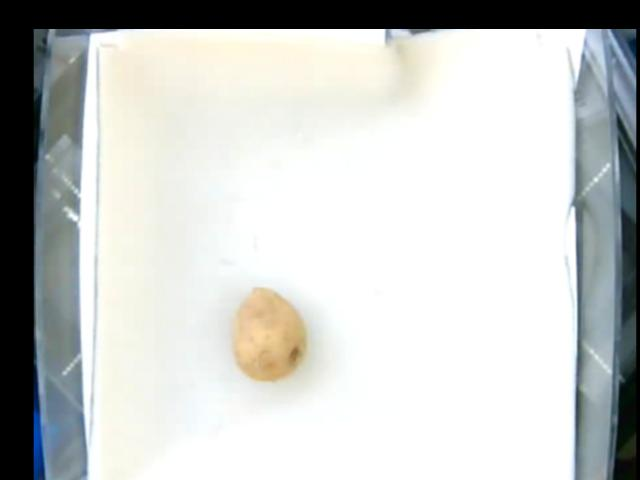Potato: (229, 288, 306, 383)
